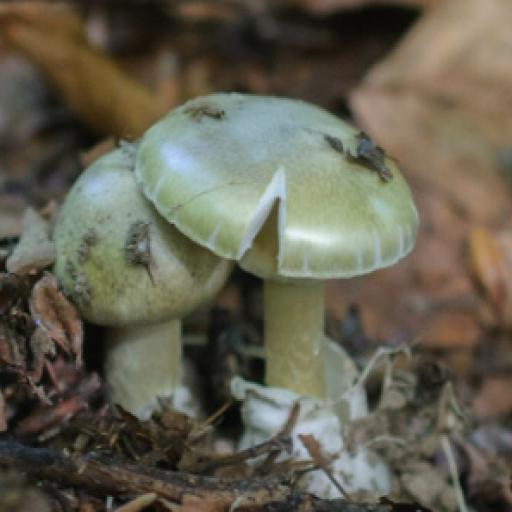mushroom: (33, 74, 429, 497)
